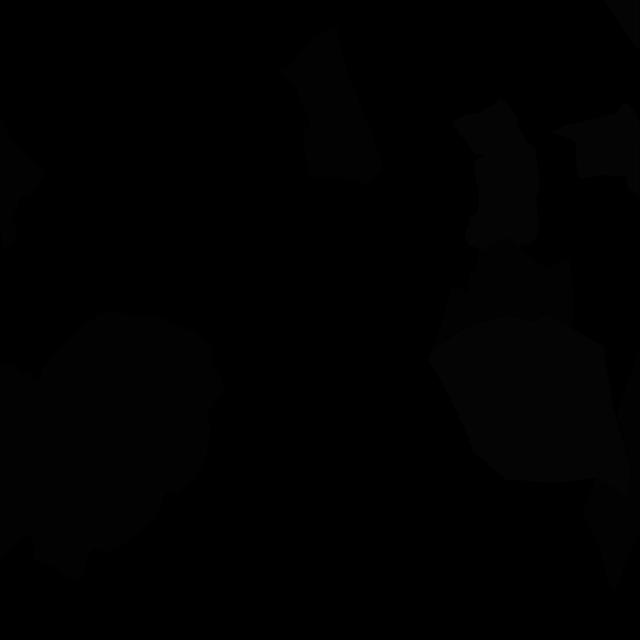cardboard: (15, 311, 224, 553), (0, 364, 94, 582), (276, 26, 382, 186), (432, 237, 574, 350), (583, 350, 640, 592), (0, 113, 45, 250)
soft_plastic: (428, 314, 630, 500), (452, 97, 540, 252), (549, 103, 640, 202), (603, 0, 640, 52)
